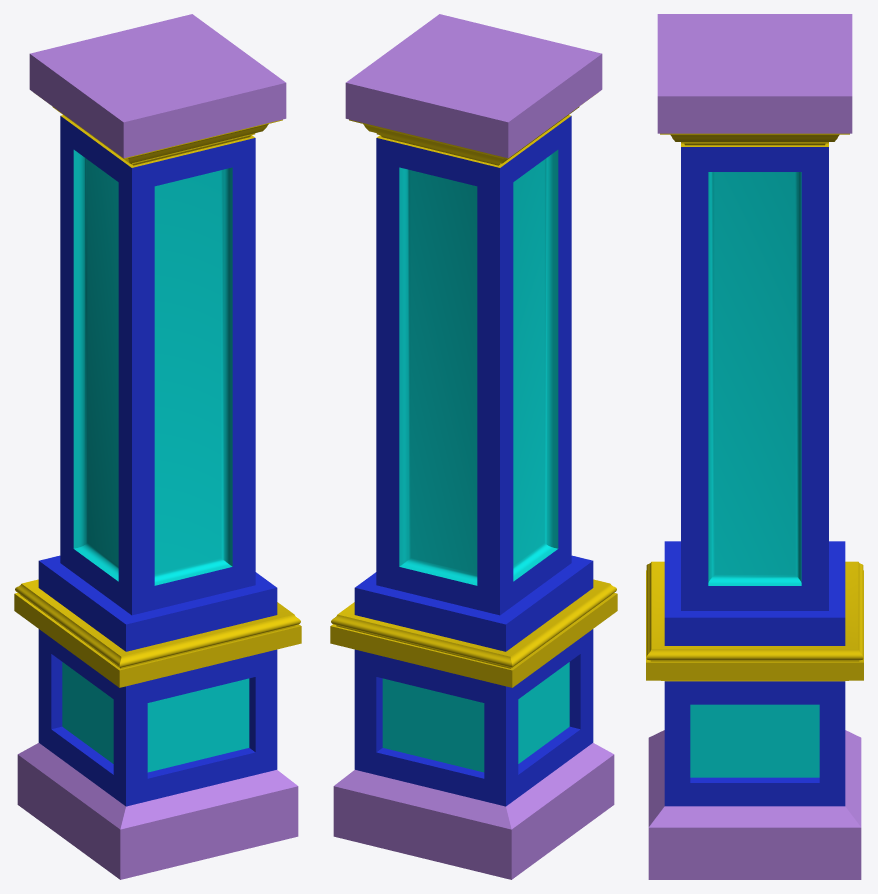
Rendered from COLUMNA_UV'S.fbx.
3 views of the same model, side by side, from view 1: azimuth 30°, elevation 25°; view 2: azimuth 150°, elevation 25°; view 3: azimuth 270°, elevation 25° (orthographic). The views are drawn at different scales.
Parts seen in each view (by area): view 1: Cube; view 2: Cube; view 3: Cube.
Boxes of the visible parts, x1,y1,x2,y2 form: Cube: (14,14,301,879); Cube: (330,14,617,879); Cube: (646,14,863,879).
Size of the model in its own units: 204 by 808 by 204.
